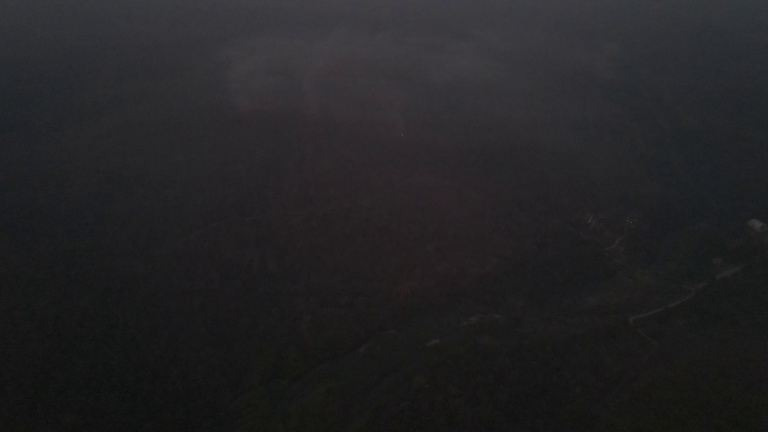fire: (398, 130, 406, 140)
smoke: (225, 1, 494, 117)
